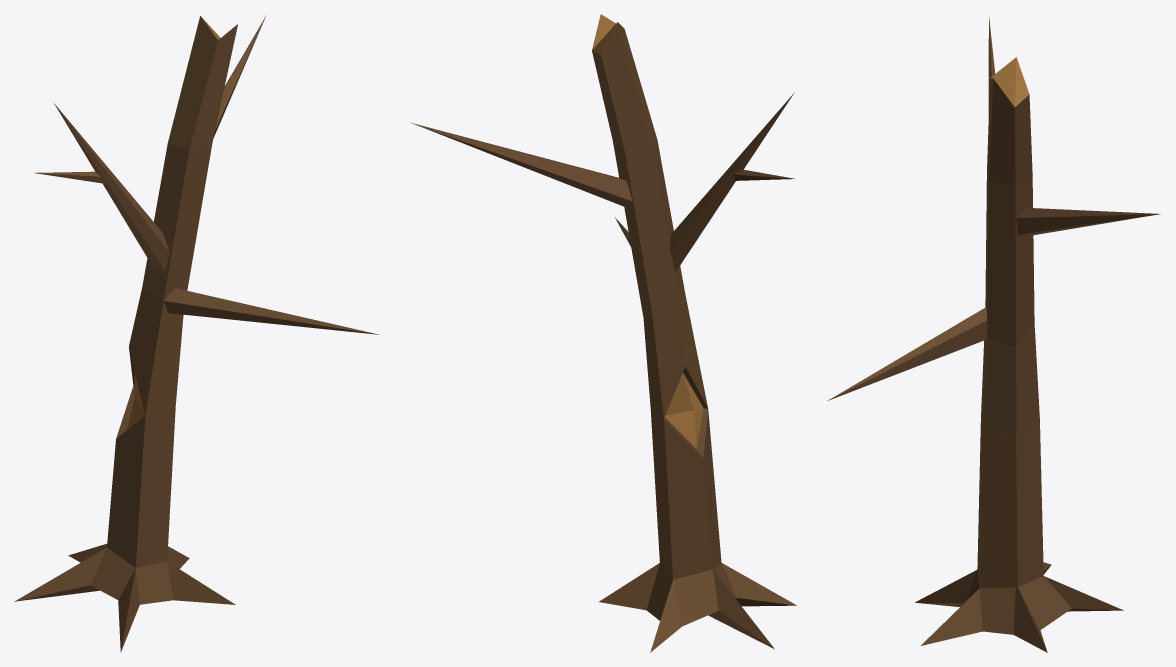
The model's file is tree-dead-4.glb.
3 views of the same model, side by side, from view 1: azimuth 30°, elevation 25°; view 2: azimuth 150°, elevation 25°; view 3: azimuth 270°, elevation 25° (orthographic). The views are drawn at different scales.
Visible parts, largest first — view 1: tree-dead-torn-b; view 2: tree-dead-torn-b; view 3: tree-dead-torn-b.
Boxes of the visible parts, x1=… form: tree-dead-torn-b: x1=14, y1=15, x2=379, y2=652; tree-dead-torn-b: x1=411, y1=14, x2=796, y2=652; tree-dead-torn-b: x1=827, y1=17, x2=1160, y2=652.
Size of the model in its own units: 2.81 by 5.03 by 2.5.
